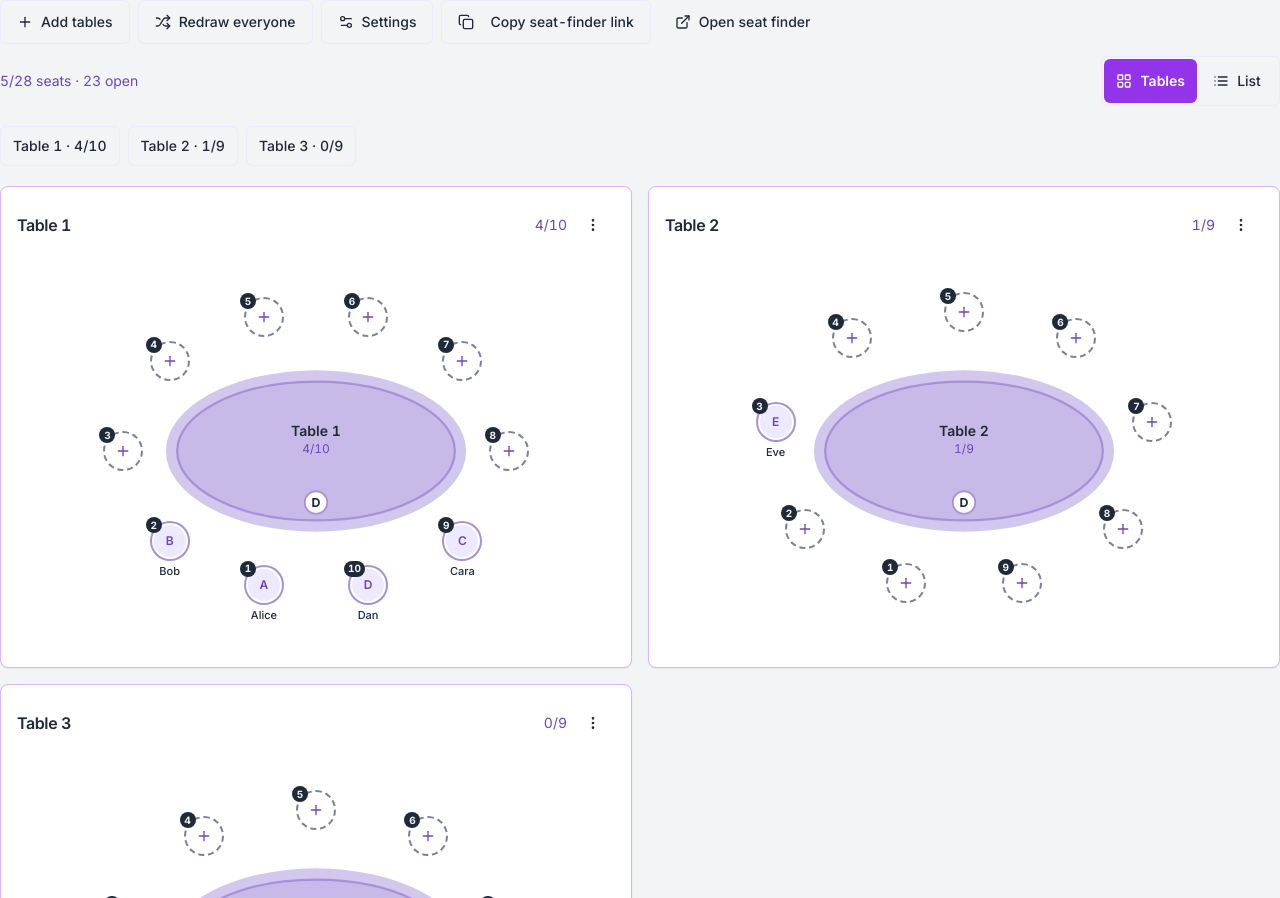
Test case: SeatingPanel: a table's menu › puts the seats still taken on the seat count when a table cannot shrink
The width and height of the screenshot is (1280, 898).
Step 1. Click the button named "Table 1 options" → (593, 225), box [571,203,615,247]
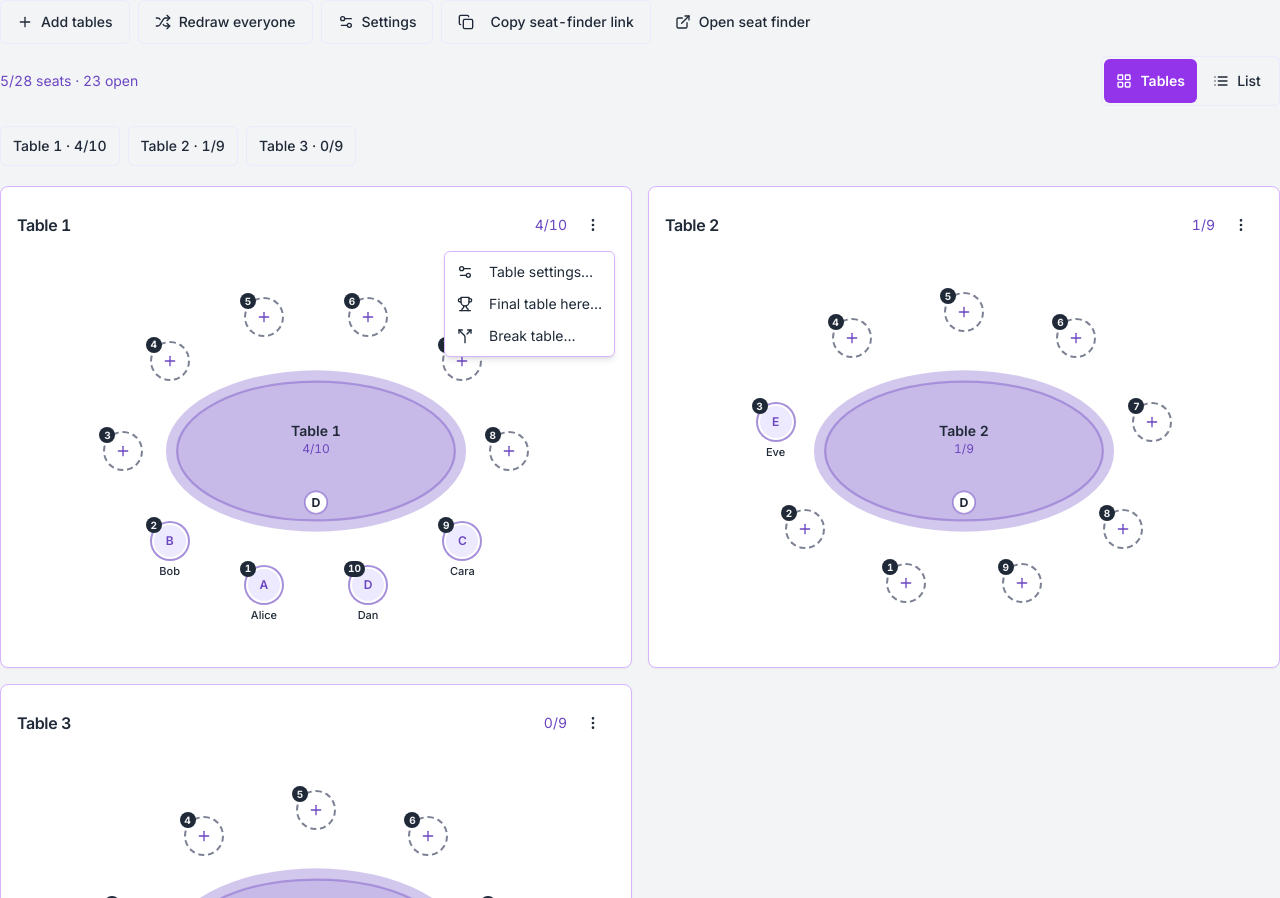
Step 2. Click the menu item "Table settings…" → (525, 272), box [457,263,593,280]
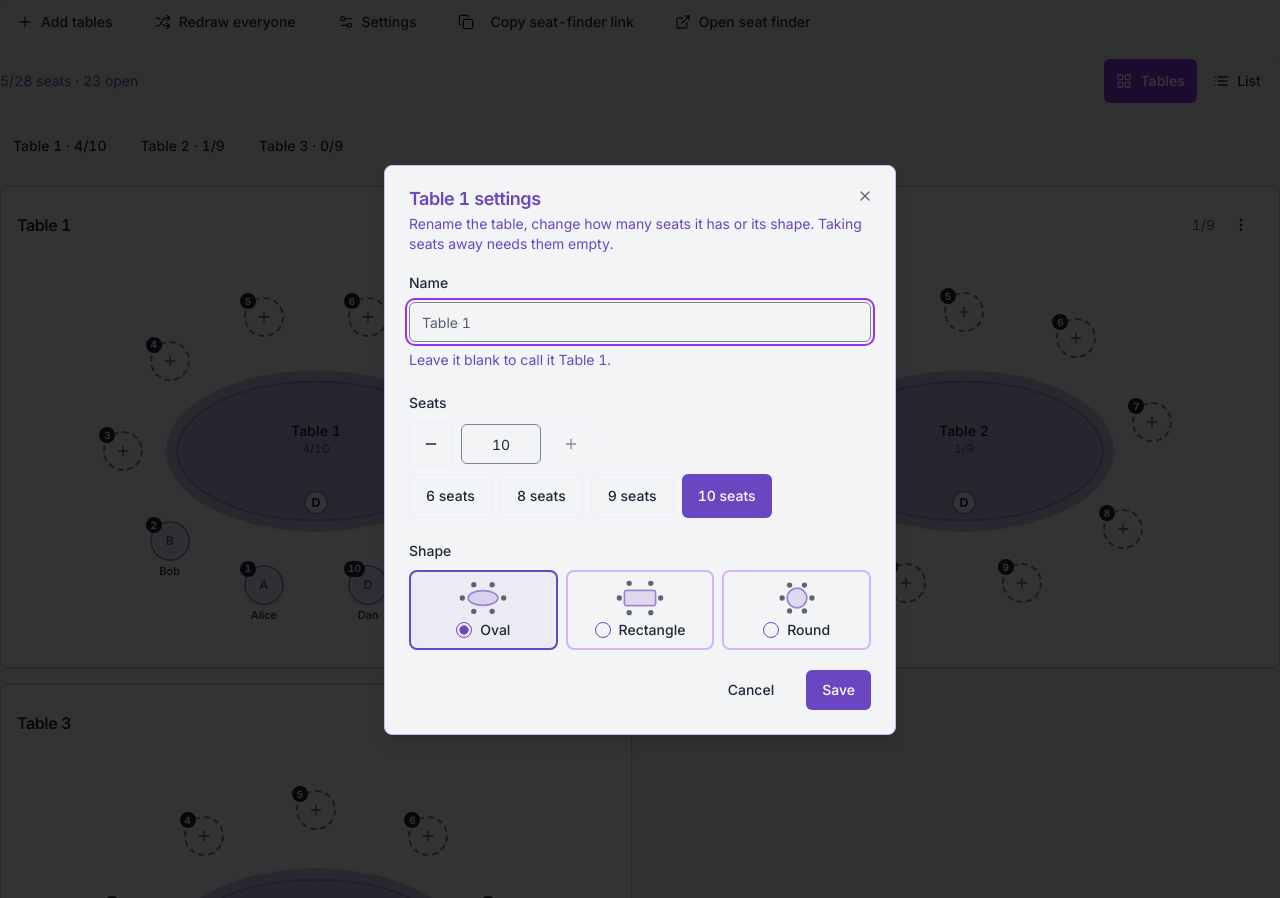
Step 3. Click the button "8 seats" → (541, 496), box [500,474,583,518]
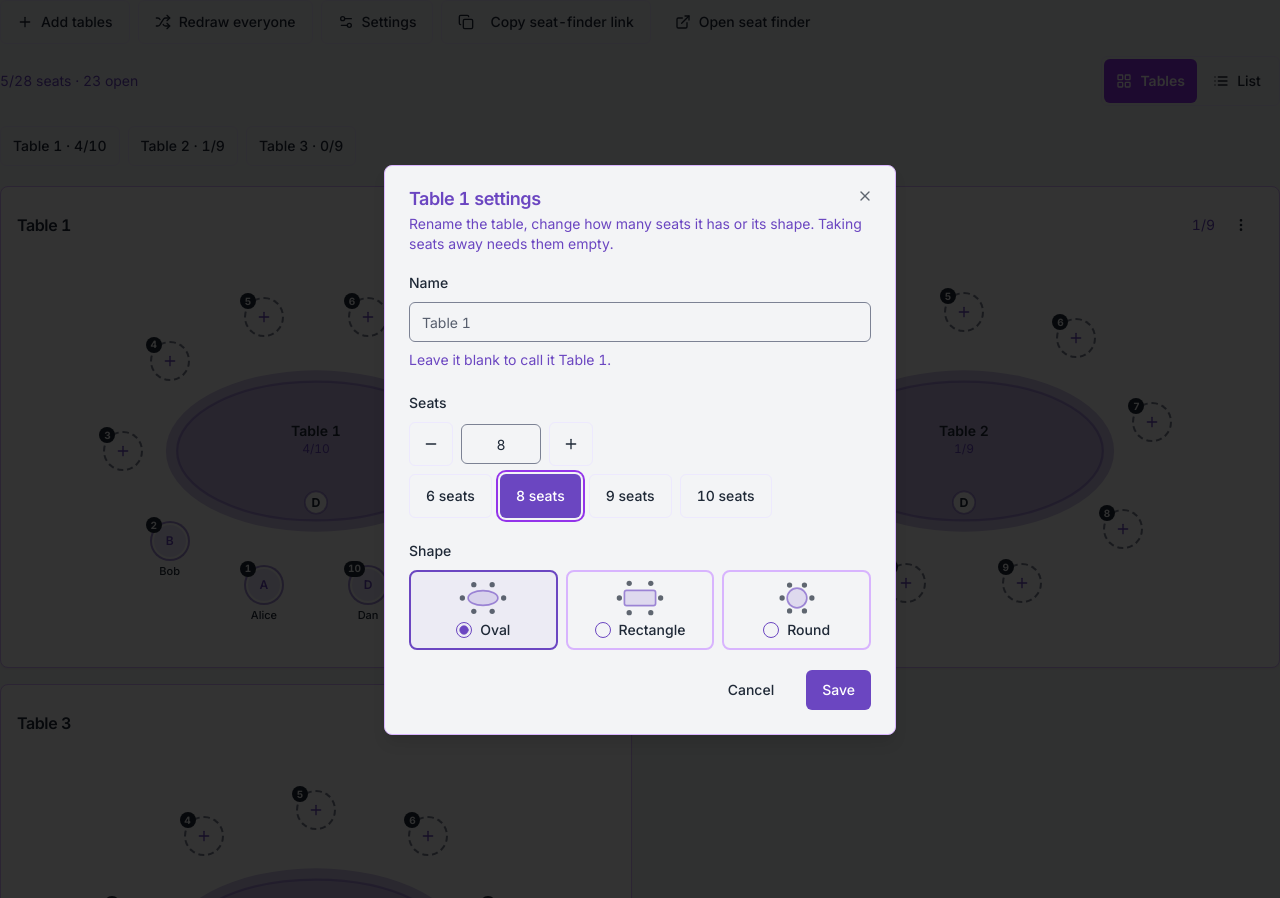
Step 4. Click the button "Save" → (839, 690), box [806,670,871,710]
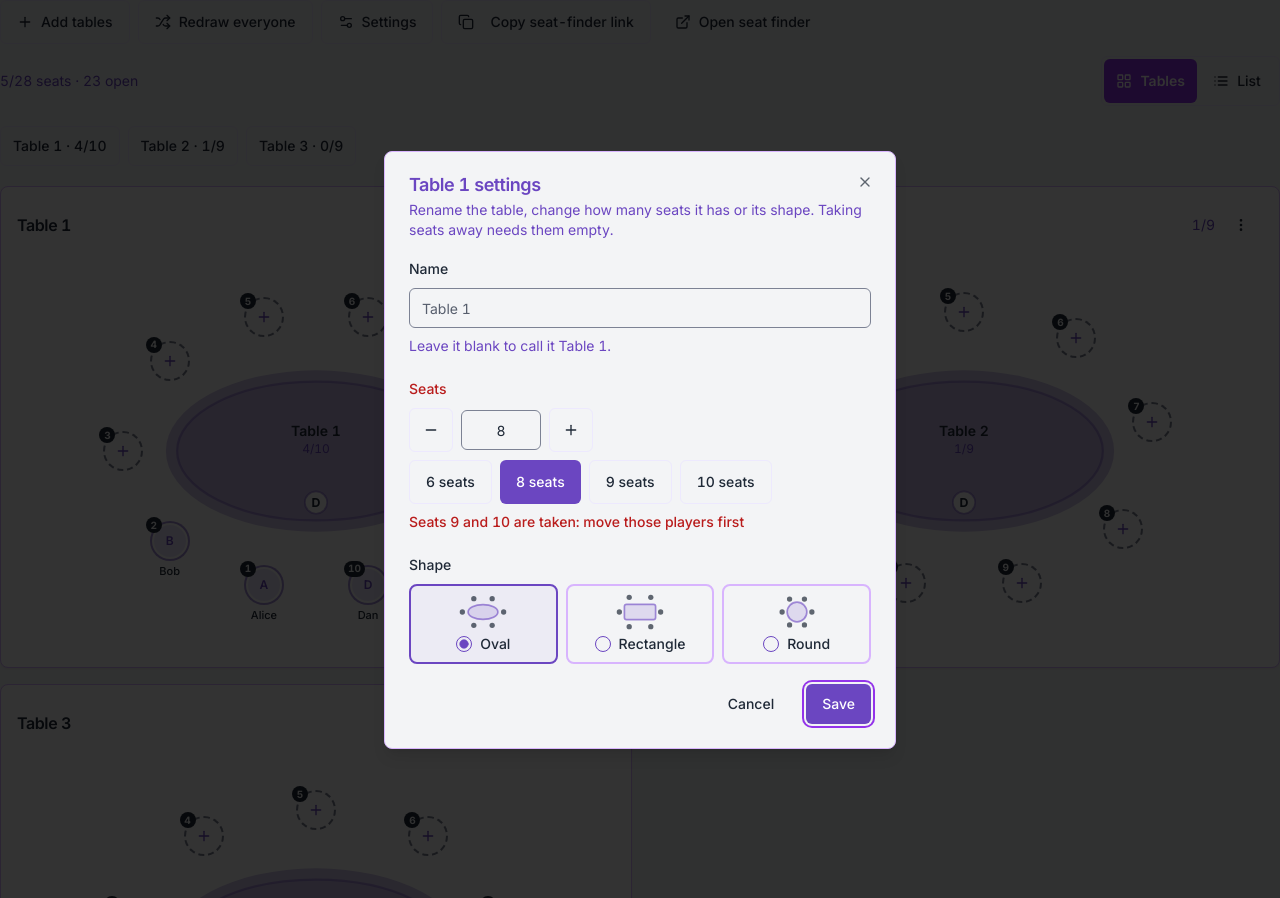
Expected: the text "Seats 9 and 10 are taken: move those players first" is shown, [409,513,744,530]
